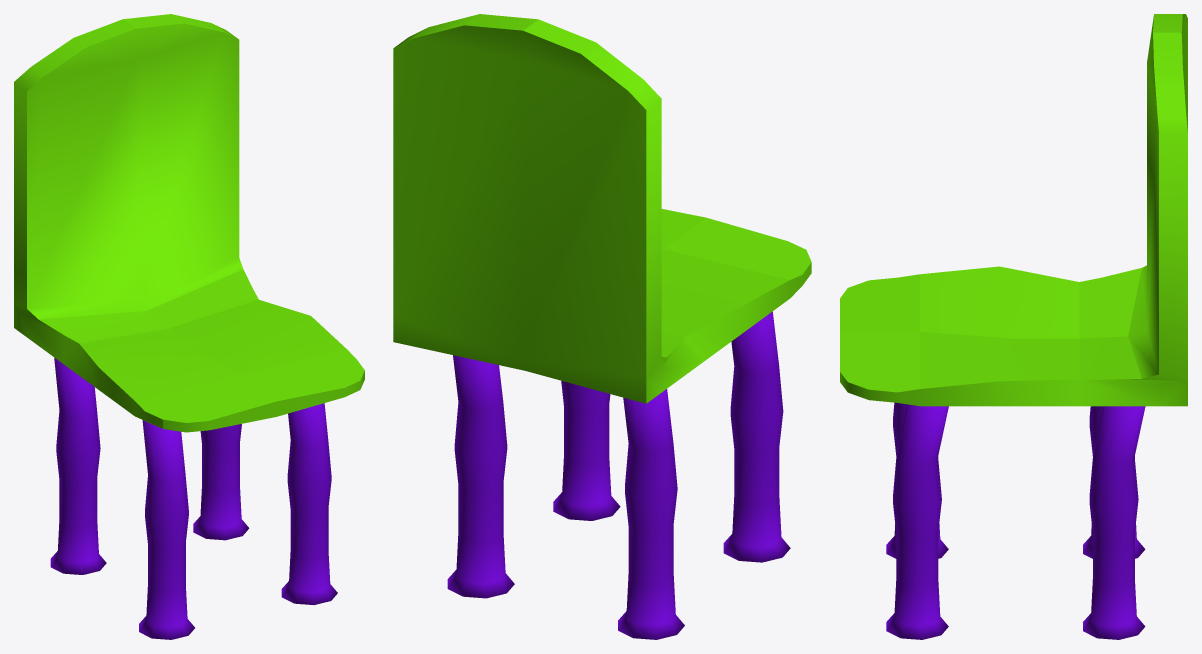
The model's file is Chair.fbx.
3 renders of one model, left to right at view 1: azimuth 30°, elevation 25°; view 2: azimuth 150°, elevation 25°; view 3: azimuth 270°, elevation 25°, orthographic. The views are drawn at different scales.
Parts seen in each view (by area): view 1: Cube, Cylinder, Cylinder.002, Cylinder.001, Cylinder.003; view 2: Cube, Cylinder.002, Cylinder.003, Cylinder, Cylinder.001; view 3: Cube, Cylinder.001, Cylinder.003, Cylinder, Cylinder.002.
Boxes of the visible parts, x1,y1,x2,y2 form: Cube: [14, 14, 364, 432]; Cylinder: [139, 420, 194, 639]; Cylinder.002: [50, 358, 106, 574]; Cylinder.001: [281, 403, 337, 604]; Cylinder.003: [193, 424, 249, 540]; Cube: [393, 14, 811, 403]; Cylinder.002: [618, 389, 684, 639]; Cylinder.003: [447, 355, 514, 598]; Cylinder: [723, 311, 790, 562]; Cylinder.001: [553, 381, 620, 520]; Cube: [840, 14, 1187, 406]; Cylinder.001: [886, 404, 948, 639]; Cylinder.003: [1083, 406, 1145, 639]; Cylinder: [886, 402, 948, 558]; Cylinder.002: [1083, 406, 1145, 558].
Size of the model in its own units: 680 by 1541 by 870.
